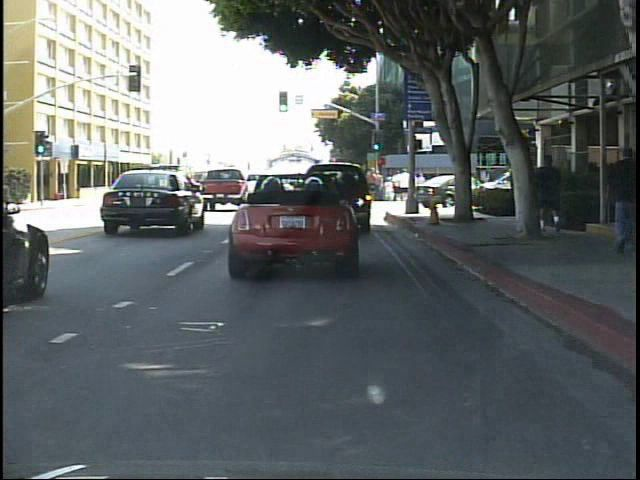person: (604, 141, 638, 260), (539, 146, 571, 237), (129, 175, 148, 202)
